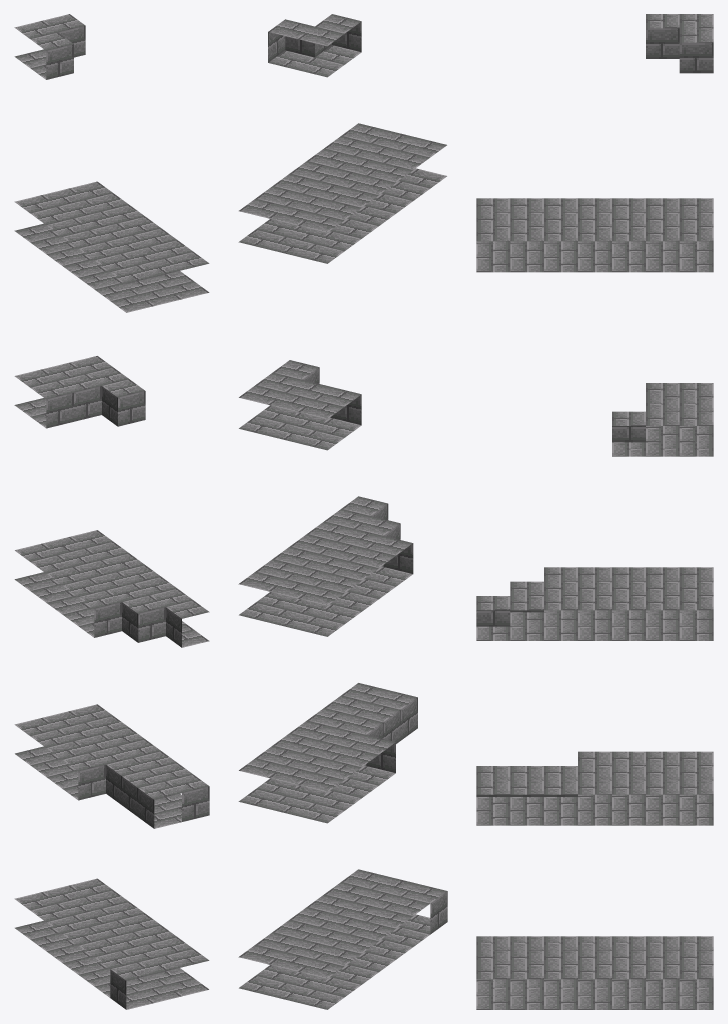
File: Stone_Bricks_Chunk_7_22.fbx
3 views of the same model, side by side, from view 1: azimuth 30°, elevation 25°; view 2: azimuth 150°, elevation 25°; view 3: azimuth 270°, elevation 25° (orthographic). The views are drawn at different scales.
Visible parts, largest first — view 1: Stone_Bricks_Chunk_7_22; view 2: Stone_Bricks_Chunk_7_22; view 3: Stone_Bricks_Chunk_7_22.
Boxes of the visible parts, x1,y1,x2,y2 form: Stone_Bricks_Chunk_7_22: (14,14,209,1009); Stone_Bricks_Chunk_7_22: (238,14,447,1009); Stone_Bricks_Chunk_7_22: (476,14,713,1009).
Bounding box in the file's own units: 300 × 3100 × 700.
Materials: 1 (1 with a texture image).
